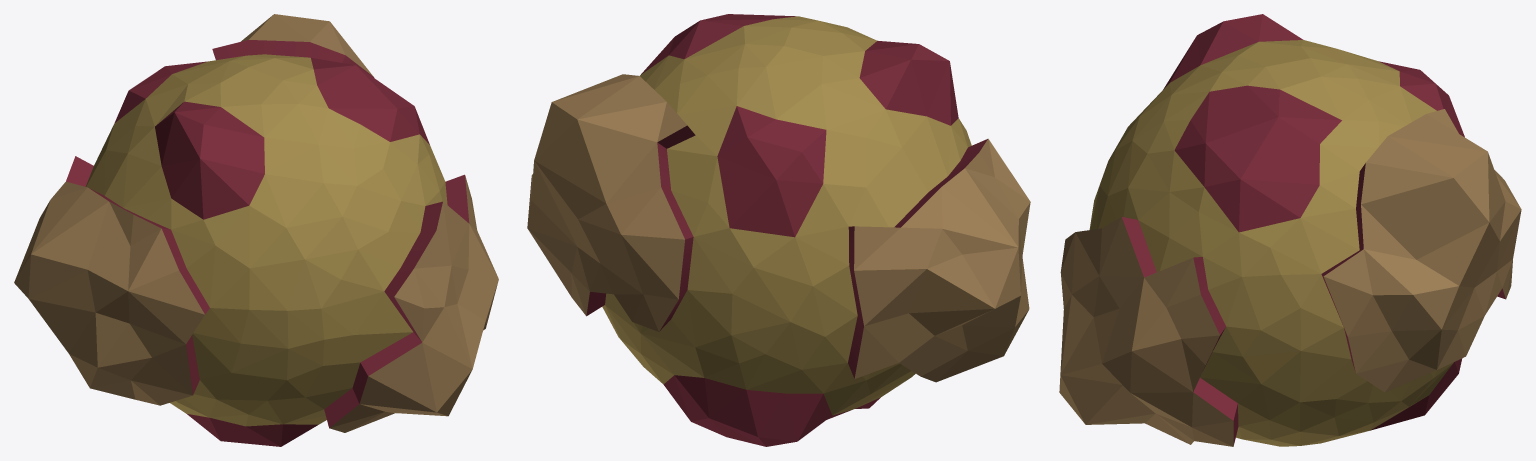
The model's file is planetTwo.fbx.
The picture shows the model from 3 angles, left to right: view 1: azimuth 30°, elevation 25°; view 2: azimuth 150°, elevation 25°; view 3: azimuth 270°, elevation 25°; orthographic projection. The views are drawn at different scales.
Visible parts, largest first — view 1: pPlatonic2; view 2: pPlatonic2; view 3: pPlatonic2.
Part boxes in pixels (box(x1,y1,x2,y2)): pPlatonic2: box(14, 14, 498, 446); pPlatonic2: box(527, 14, 1030, 446); pPlatonic2: box(1059, 14, 1521, 446).
Bounding box in the file's own units: 31.51 × 26.13 × 29.01.
